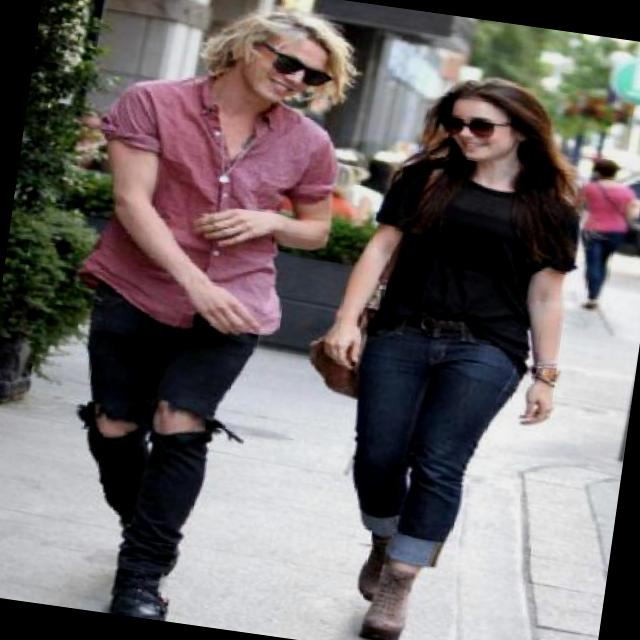Person: (0, 0, 375, 639), (274, 39, 609, 640)
